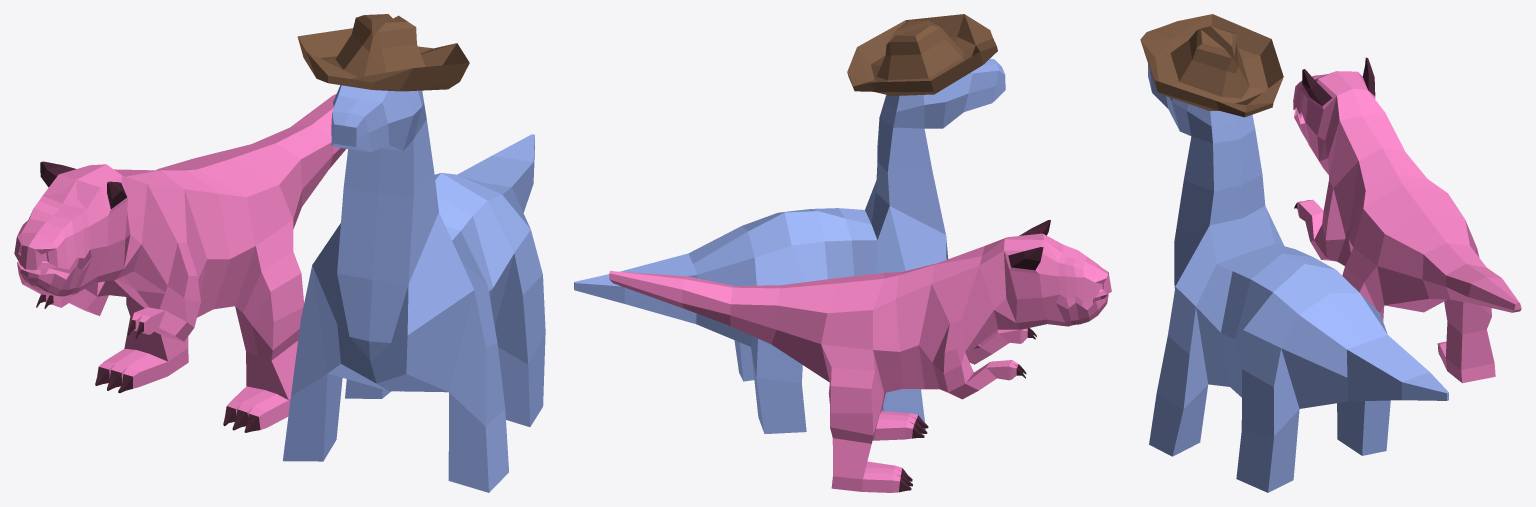
File: dinosaurs2.glb
3 renders of one model, left to right at view 1: azimuth 30°, elevation 25°; view 2: azimuth 150°, elevation 25°; view 3: azimuth 270°, elevation 25°, orthographic. The views are drawn at different scales.
Parts seen in each view (by area): view 1: Cube.010, Cube.012, Circle; view 2: Cube.012, Cube.010, Circle; view 3: Cube.010, Cube.012, Circle.
Boxes of the visible parts, x1=… form: Cube.010: x1=283, y1=85, x2=545, y2=492; Cube.012: x1=14, y1=94, x2=346, y2=432; Circle: x1=297, y1=14, x2=469, y2=91; Cube.012: x1=609, y1=220, x2=1111, y2=492; Cube.010: x1=574, y1=59, x2=1005, y2=433; Circle: x1=847, y1=14, x2=997, y2=95; Cube.010: x1=1148, y1=64, x2=1448, y2=492; Cube.012: x1=1293, y1=57, x2=1521, y2=383; Circle: x1=1140, y1=14, x2=1283, y2=117.
Size of the model in its own units: 11.37 by 8.52 by 7.63.
